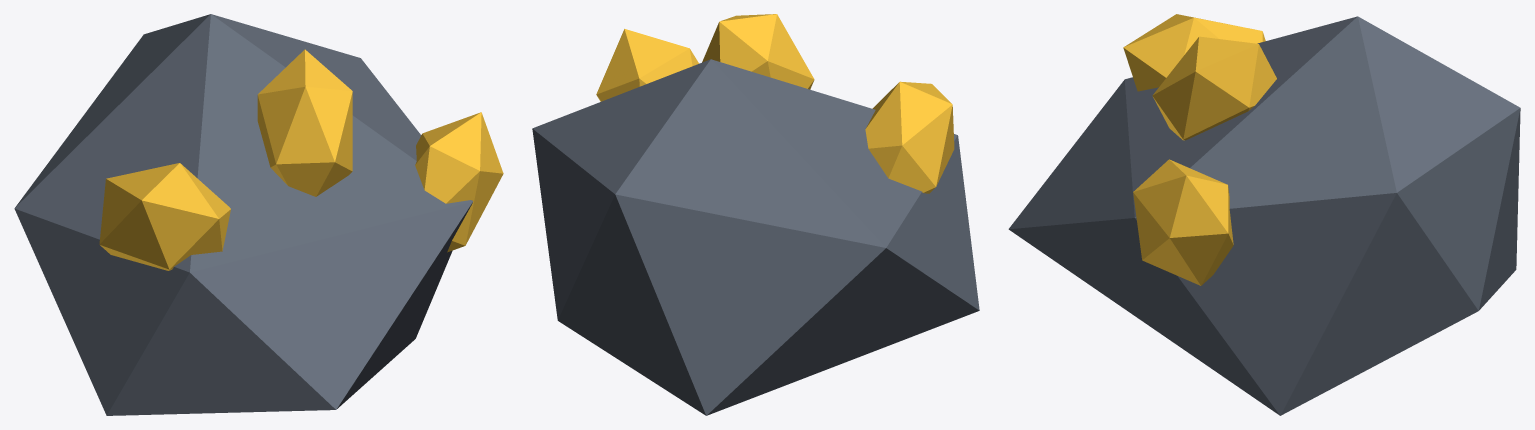
The model's file is Res_Ore_Gold.fbx.
3 renders of one model, left to right at view 1: azimuth 30°, elevation 25°; view 2: azimuth 150°, elevation 25°; view 3: azimuth 270°, elevation 25°, orthographic. The views are drawn at different scales.
Visible parts, largest first — view 1: Res_Ore_Gold; view 2: Res_Ore_Gold; view 3: Res_Ore_Gold.
Boxes of the visible parts, x1,y1,x2,y2 form: Res_Ore_Gold: [14, 14, 503, 415]; Res_Ore_Gold: [532, 14, 979, 415]; Res_Ore_Gold: [1008, 14, 1520, 415].
Size of the model in its own units: 0.2589 by 0.2239 by 0.3061.
